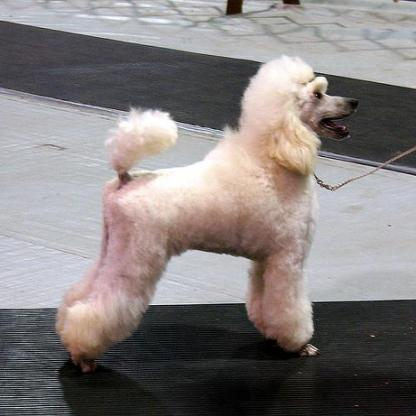miniature_poodle: (54, 55, 357, 376)
